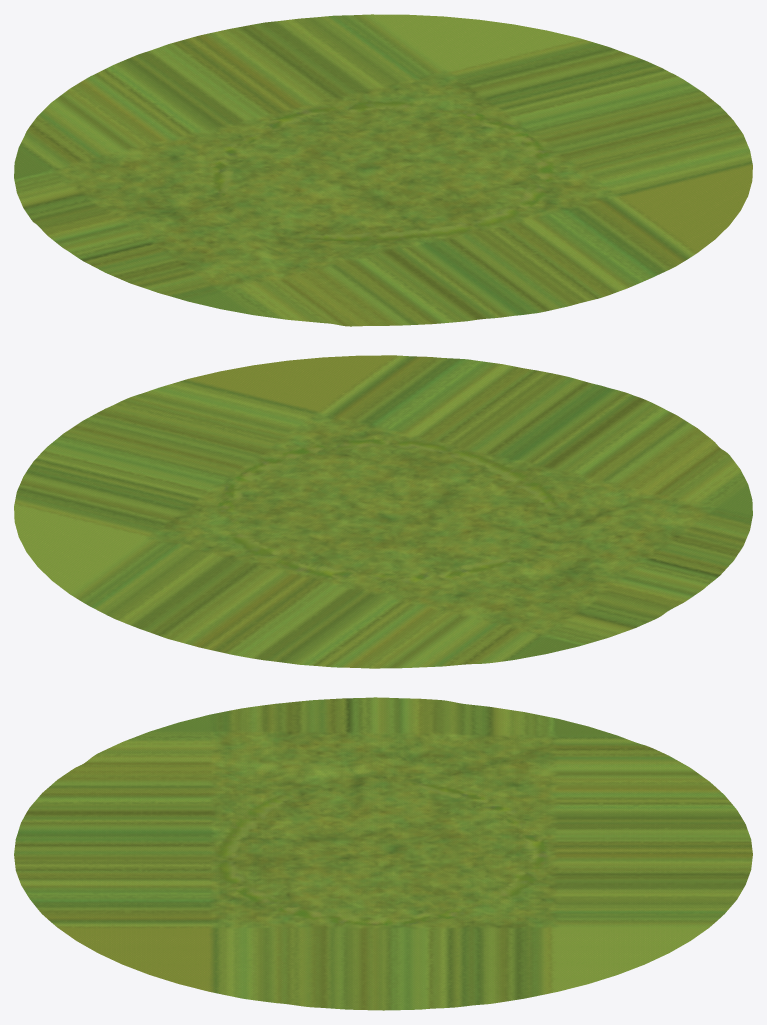
Rendered from terrain_base.gltf.
3 renders of one model, top to bottom at view 1: azimuth 30°, elevation 25°; view 2: azimuth 150°, elevation 25°; view 3: azimuth 270°, elevation 25°, orthographic.
Parts seen in each view (by area): view 1: terrain_base.surface; view 2: terrain_base.surface; view 3: terrain_base.surface.
Part boxes in pixels (x1,y1,x2,y2): terrain_base.surface: (14,14,752,326); terrain_base.surface: (14,355,752,668); terrain_base.surface: (14,697,752,1010).
Bounding box in the file's own units: 440 × 2.67 × 440.
Materials: 1 (1 with a texture image).
